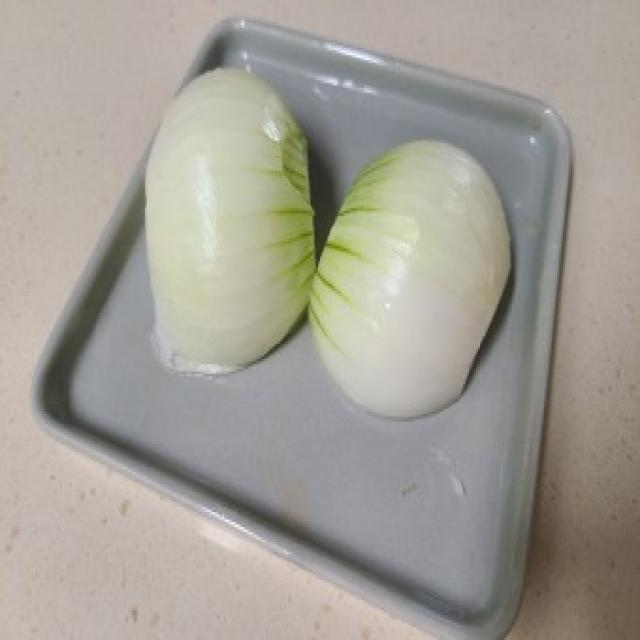onion: (318, 106, 512, 419), (136, 53, 320, 368)
